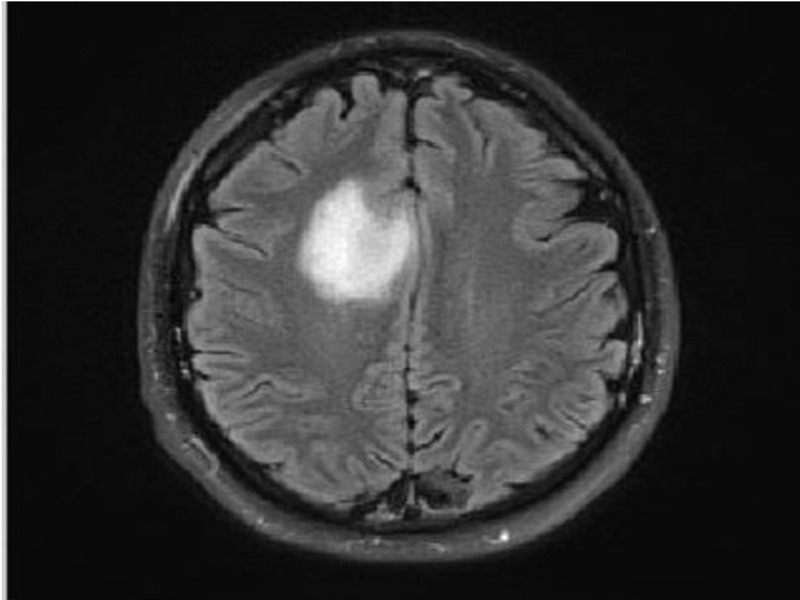tumor: (289, 174, 423, 311)
